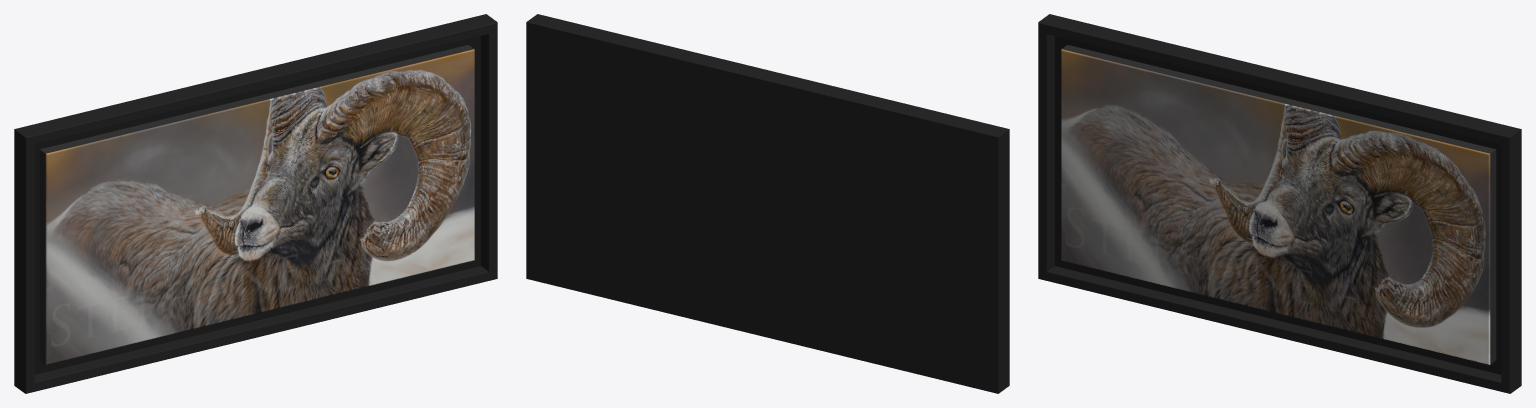
The model's file is tableau-mouflon-canada-classique-bf85f7da.glb.
3 views of the same model, side by side, from view 1: azimuth 30°, elevation 25°; view 2: azimuth 150°, elevation 25°; view 3: azimuth 330°, elevation 25° (orthographic).
Parts seen in each view (by area): view 1: Painting; view 2: Painting; view 3: Painting.
Boxes of the visible parts, box(x1,y1,x2,y2) form: Painting: box(14, 14, 497, 393); Painting: box(526, 14, 1009, 393); Painting: box(1038, 14, 1521, 393).
Size of the model in its own units: 0.936 by 0.486 by 0.04.
4 materials, 2 textured.
